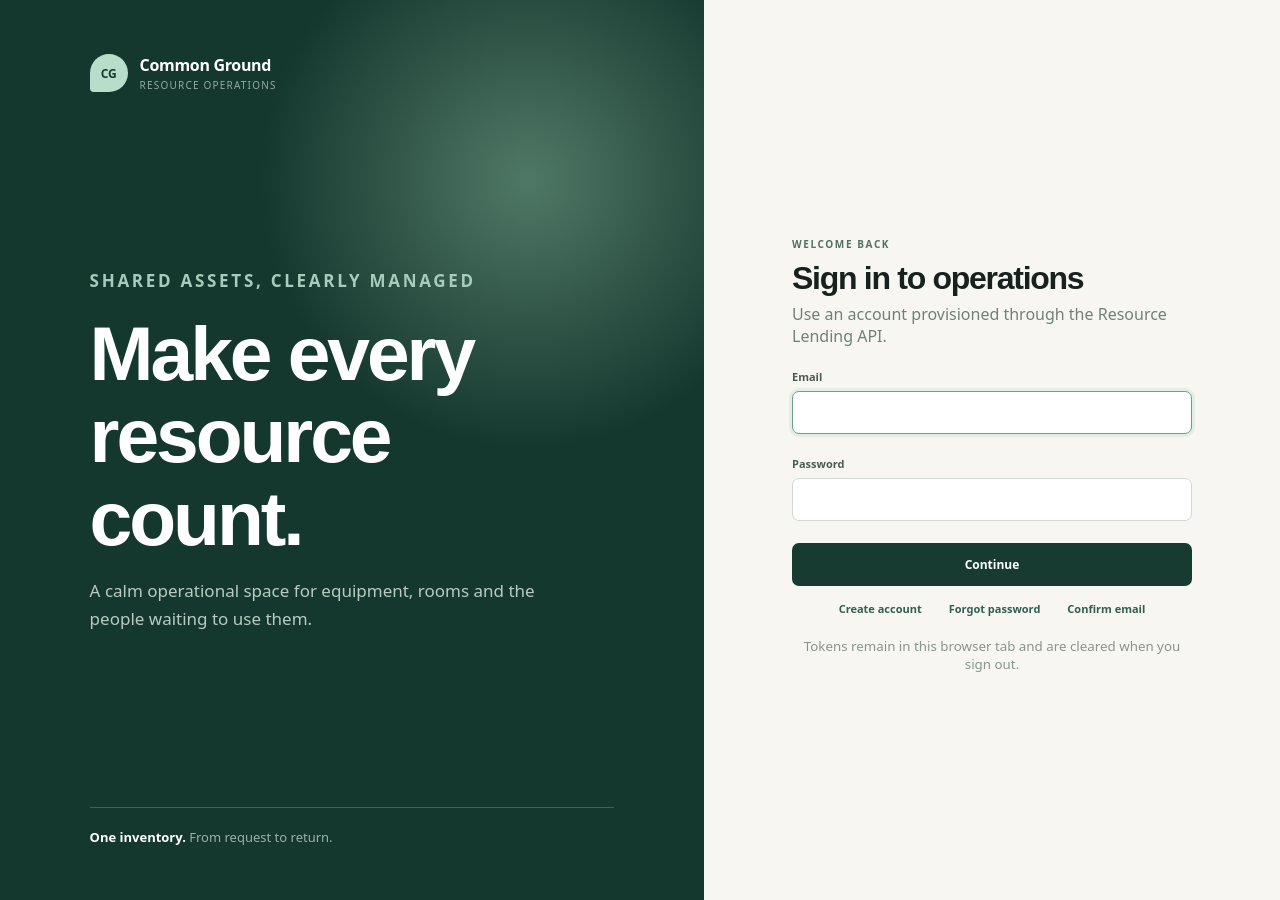
Test: authentication journeys › renders safe API errors and does not expose correlation details in the page
In the field labelled "Email": x=992, y=413 [792,391,1192,434], type "student@example.com"
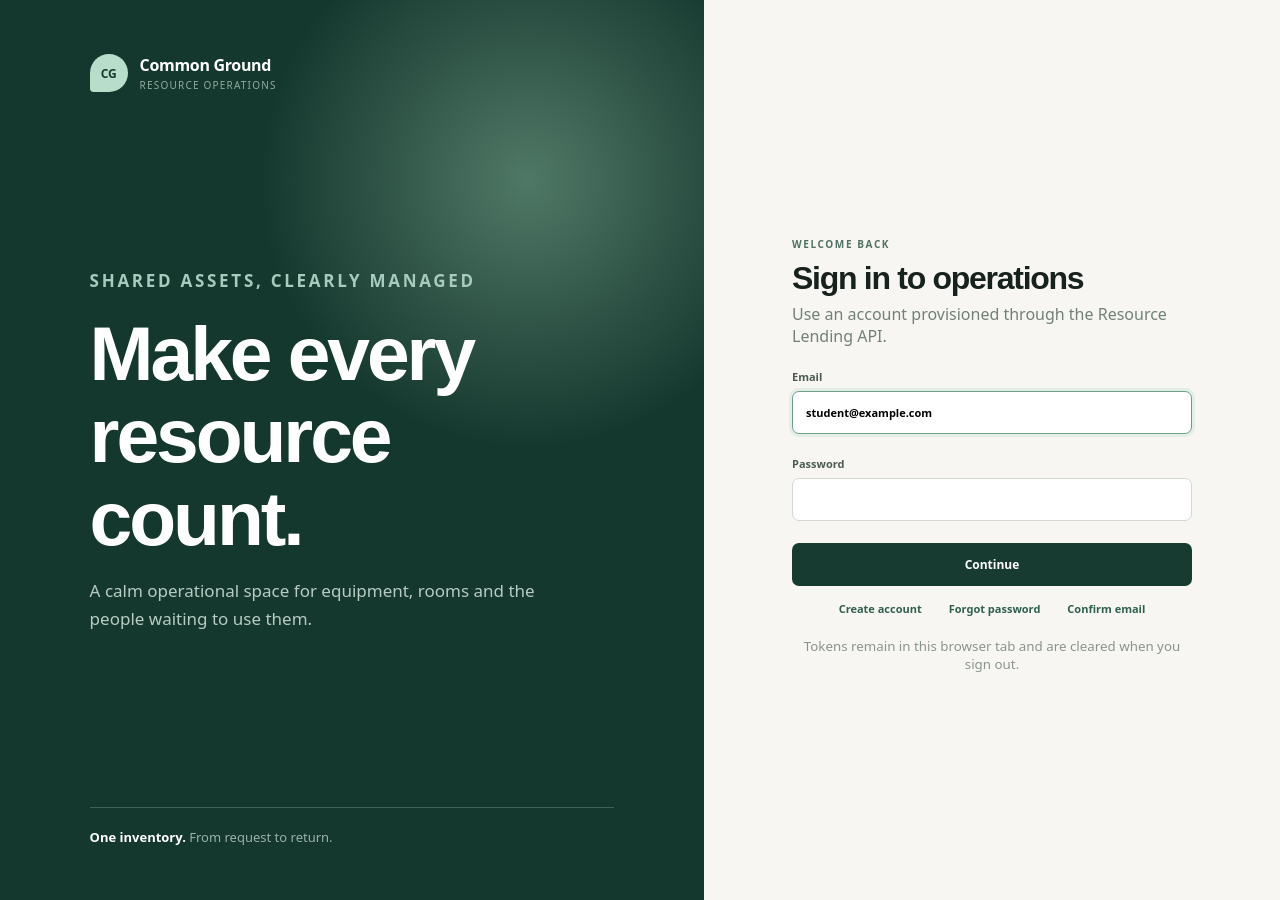
In the password field labelled "Password": x=992, y=500 [792,478,1192,521], type "wrong"
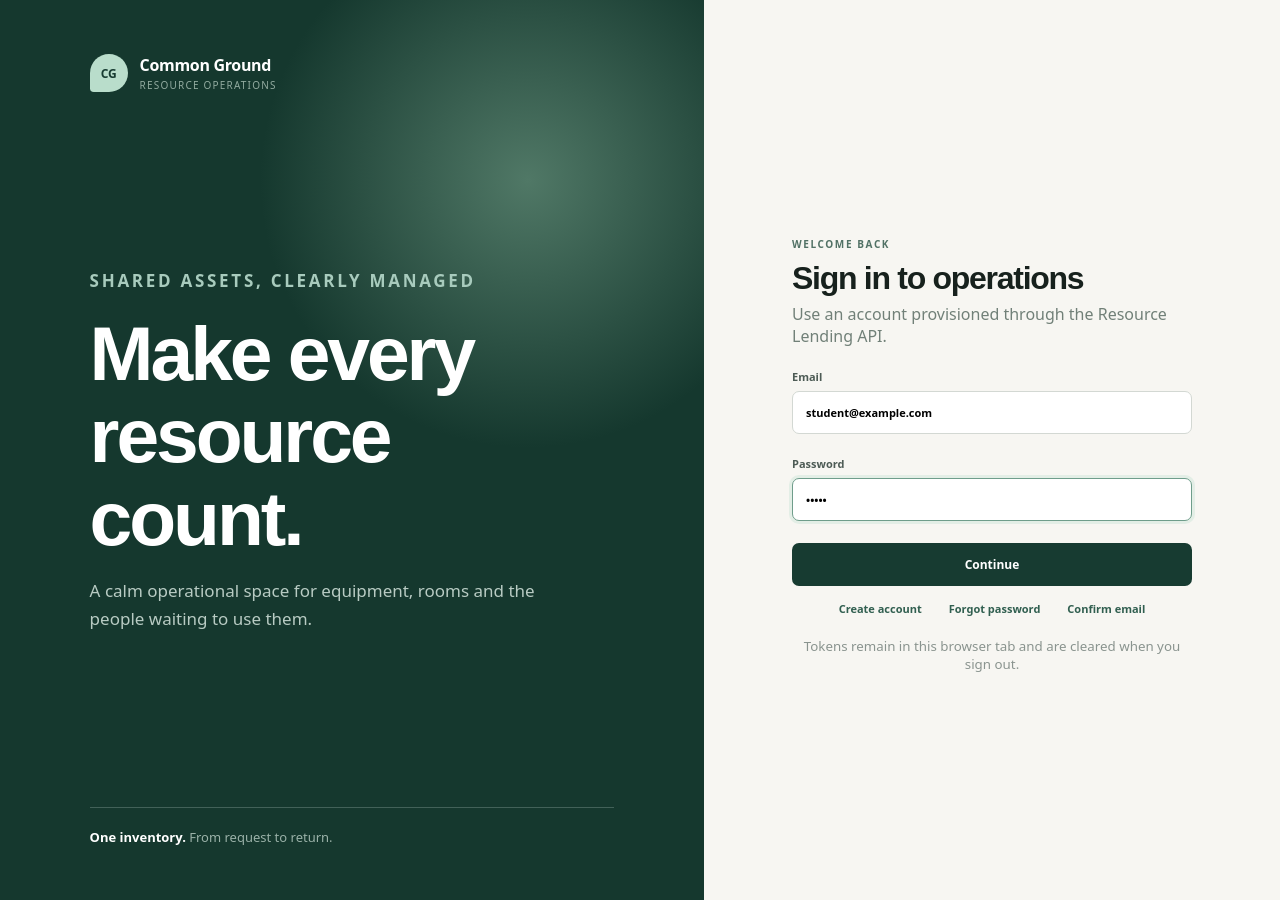
Click the button "Continue": x=992, y=565 [792,543,1192,586]
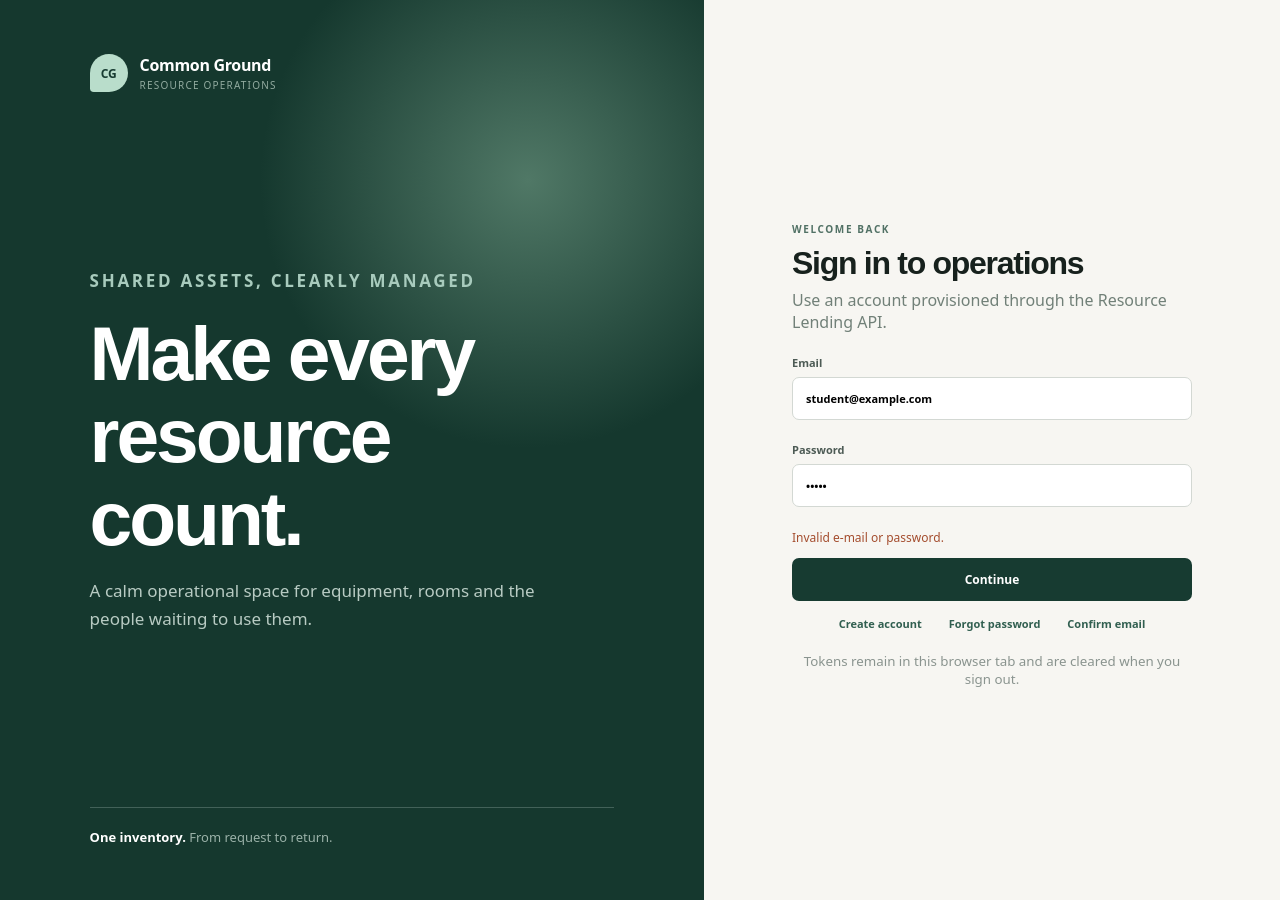
Result: the message reads "Invalid e-mail or password." at [792,529,944,546]
